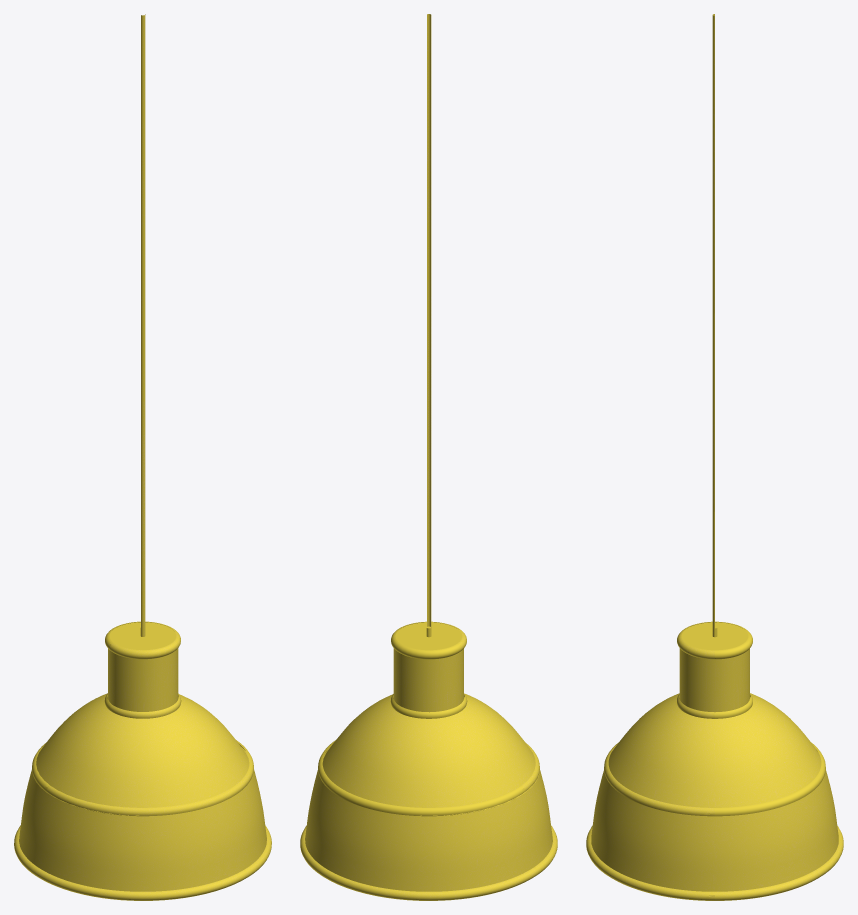
The picture shows the model from 3 angles, left to right: view 1: azimuth 30°, elevation 25°; view 2: azimuth 150°, elevation 25°; view 3: azimuth 270°, elevation 25°; orthographic projection.
Parts seen in each view (by area): view 1: unfold_pSphere2, unfold_pSphere1, unfold_pPipe1, unfold_________18.001, unfold_polySurface6.001, unfold_polySurface5.001, unfold_pCylinder1, unfold_polySurface4.001, unfold_________24; view 2: unfold_pSphere2, unfold_pSphere1, unfold_pPipe1, unfold_________18.001, unfold_polySurface6, unfold_polySurface5, unfold_pCylinder1, unfold_polySurface4, unfold_________11; view 3: unfold_pSphere2, unfold_pSphere1, unfold_pPipe1, unfold_________18.001, unfold_pCylinder1, unfold_polySurface6, unfold_polySurface6.001, unfold_polySurface5, unfold_polySurface5.001.
Boxes of the visible parts, x1=… form: unfold_pSphere2: x1=19, y1=770, x2=266, y2=891; unfold_pSphere1: x1=32, y1=693, x2=249, y2=815; unfold_pPipe1: x1=108, y1=648, x2=178, y2=711; unfold_________18.001: x1=141, y1=14, x2=145, y2=636; unfold_polySurface6.001: x1=31, y1=825, x2=271, y2=900; unfold_polySurface5.001: x1=47, y1=740, x2=253, y2=816; unfold_pCylinder1: x1=109, y1=622, x2=176, y2=649; unfold_polySurface4.001: x1=110, y1=629, x2=180, y2=659; unfold_________24: x1=110, y1=693, x2=181, y2=718; unfold_pSphere2: x1=305, y1=770, x2=552, y2=891; unfold_pSphere1: x1=322, y1=694, x2=539, y2=815; unfold_pPipe1: x1=393, y1=648, x2=463, y2=712; unfold_________18.001: x1=427, y1=14, x2=431, y2=636; unfold_polySurface6: x1=300, y1=826, x2=540, y2=900; unfold_polySurface5: x1=318, y1=741, x2=524, y2=816; unfold_pCylinder1: x1=395, y1=622, x2=462, y2=650; unfold_polySurface4: x1=391, y1=629, x2=461, y2=659; unfold_________11: x1=390, y1=694, x2=461, y2=718; unfold_pSphere2: x1=591, y1=769, x2=838, y2=891; unfold_pSphere1: x1=608, y1=693, x2=821, y2=807; unfold_pPipe1: x1=679, y1=648, x2=749, y2=712; unfold_________18.001: x1=712, y1=14, x2=714, y2=636; unfold_pCylinder1: x1=681, y1=622, x2=748, y2=650; unfold_polySurface6: x1=715, y1=826, x2=843, y2=900; unfold_polySurface6.001: x1=586, y1=826, x2=714, y2=900; unfold_polySurface5: x1=715, y1=742, x2=825, y2=816; unfold_polySurface5.001: x1=604, y1=742, x2=714, y2=816.
Bounding box in the file's own units: 0.3209 × 0.3209 × 1.14.
Materials: 3 (1 with a texture image).
